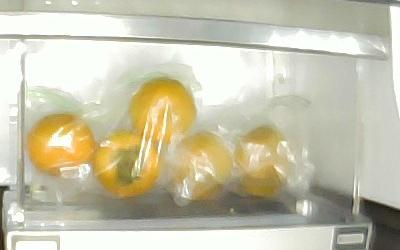persimmon_vinyl: (93, 130, 161, 199), (128, 78, 197, 144), (170, 131, 233, 201), (27, 114, 98, 176), (232, 128, 291, 196)
